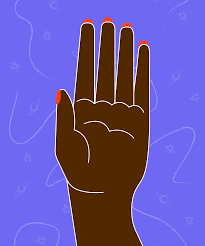palm: (57, 95, 147, 188)
